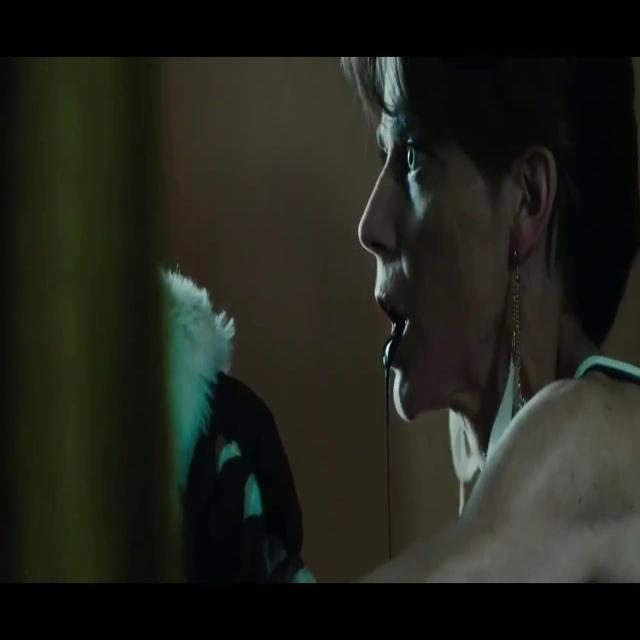flood: (367, 330, 410, 571)
